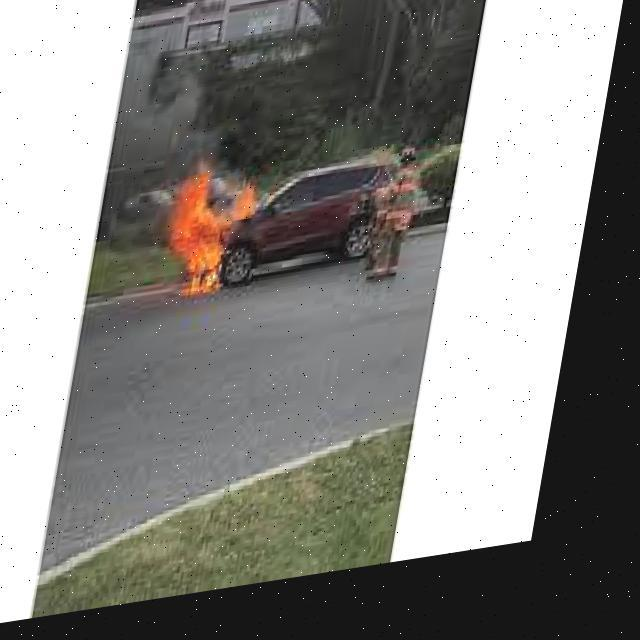Fire: (157, 156, 285, 314)
